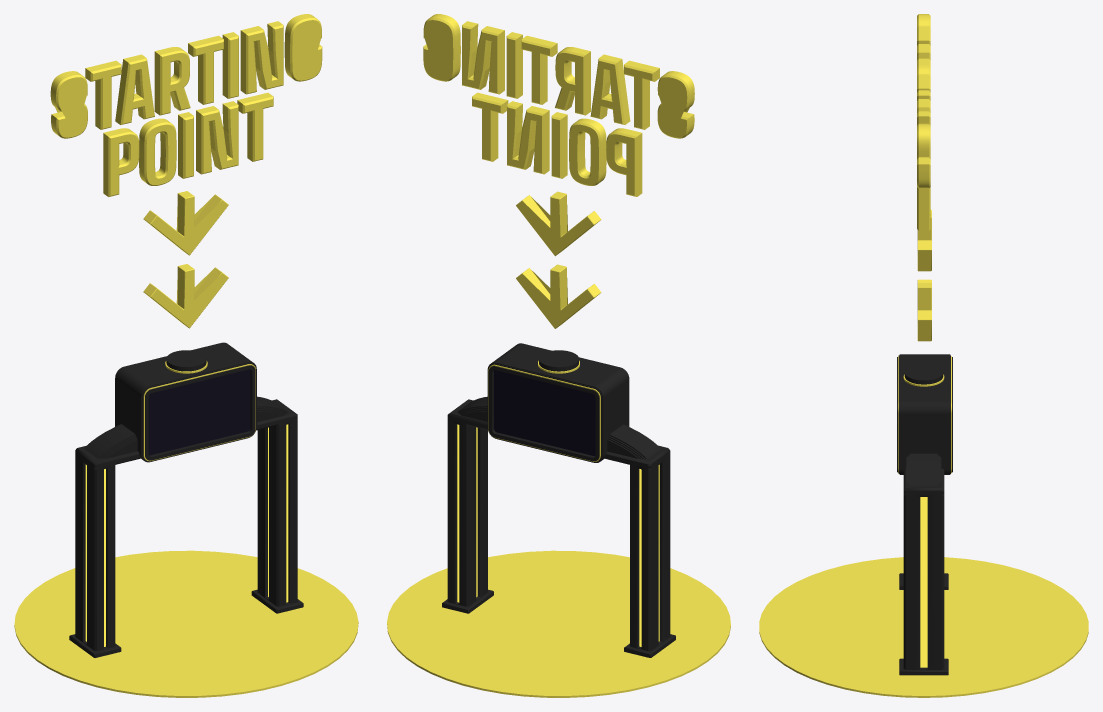
File: Starting_point_v3.fbx
The picture shows the model from 3 angles, left to right: view 1: azimuth 30°, elevation 25°; view 2: azimuth 150°, elevation 25°; view 3: azimuth 270°, elevation 25°; orthographic projection. The views are drawn at different scales.
Parts seen in each view (by area): view 1: Cylinder_1, Starting, tv, Point, pillar_2, pillar_1, Arrow2, Arrow1, Extrude_2, arch, Cylinder_2; view 2: Cylinder_1, Starting, tv, Point, pillar_2, pillar_1, Arrow1, Arrow2, Extrude_2, arch, Cylinder_2; view 3: Cylinder_1, pillar_1, tv, Starting, Extrude_1, Arrow2, Cylinder_2, Arrow1, Point.
Part boxes in pixels (<box>): Cylinder_1: <box>14,550,358,697</box>; Starting: <box>50,14,322,138</box>; tv: <box>115,342,256,462</box>; Point: <box>103,92,273,196</box>; pillar_2: <box>75,453,115,650</box>; pillar_1: <box>257,418,297,606</box>; Arrow2: <box>143,264,228,328</box>; Arrow1: <box>143,191,228,255</box>; Extrude_2: <box>84,424,137,458</box>; arch: <box>75,399,297,467</box>; Cylinder_2: <box>166,350,206,371</box>; Cylinder_1: <box>387,550,730,697</box>; Starting: <box>423,14,694,138</box>; tv: <box>487,343,629,462</box>; Point: <box>472,92,642,196</box>; pillar_2: <box>630,453,670,650</box>; pillar_1: <box>447,419,487,606</box>; Arrow1: <box>516,191,601,256</box>; Arrow2: <box>516,264,601,328</box>; Extrude_2: <box>607,424,660,458</box>; arch: <box>447,399,670,468</box>; Cylinder_2: <box>539,350,578,371</box>; Cylinder_1: <box>759,557,1088,697</box>; pillar_1: <box>903,493,944,669</box>; tv: <box>897,354,952,474</box>; Starting: <box>917,14,930,188</box>; Extrude_1: <box>906,453,941,485</box>; Arrow2: <box>917,279,931,341</box>; Cylinder_2: <box>904,364,943,384</box>; Arrow1: <box>917,210,931,271</box>; Point: <box>917,187,930,231</box>.
Bounding box in the file's own units: 491 × 913 × 490.
